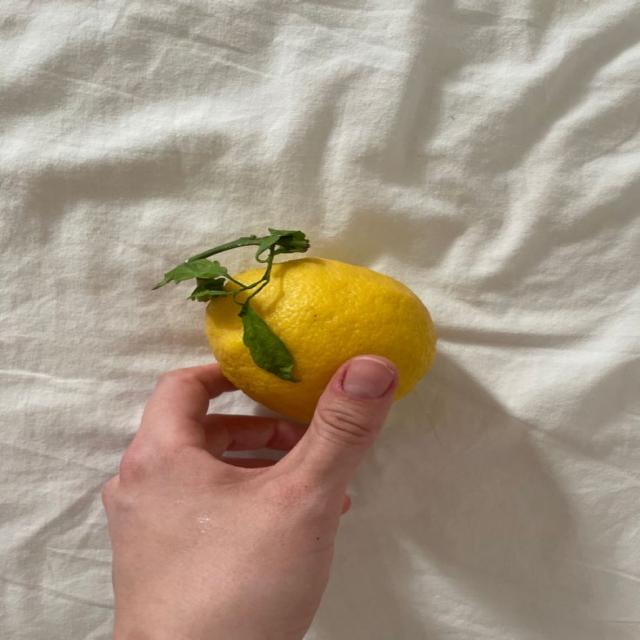lemon: (207, 259, 436, 421)
